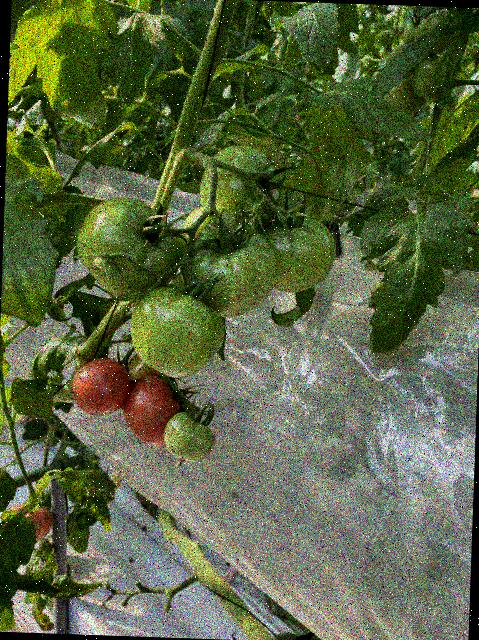b_fully_ripened: (121, 375, 197, 449), (69, 357, 131, 416)
b_green: (175, 204, 281, 319), (72, 195, 183, 303), (128, 281, 227, 380), (198, 145, 285, 235), (256, 214, 339, 295), (162, 411, 218, 463), (383, 72, 431, 121), (414, 9, 457, 56), (410, 53, 443, 99), (403, 24, 419, 45), (94, 256, 112, 271)
b_half_ripened: (124, 353, 177, 392), (9, 504, 54, 543)
